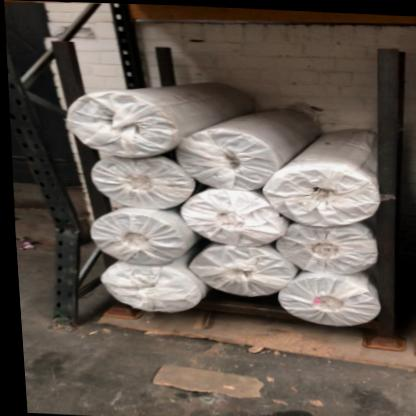vertical_damage: (18, 91, 98, 328)
